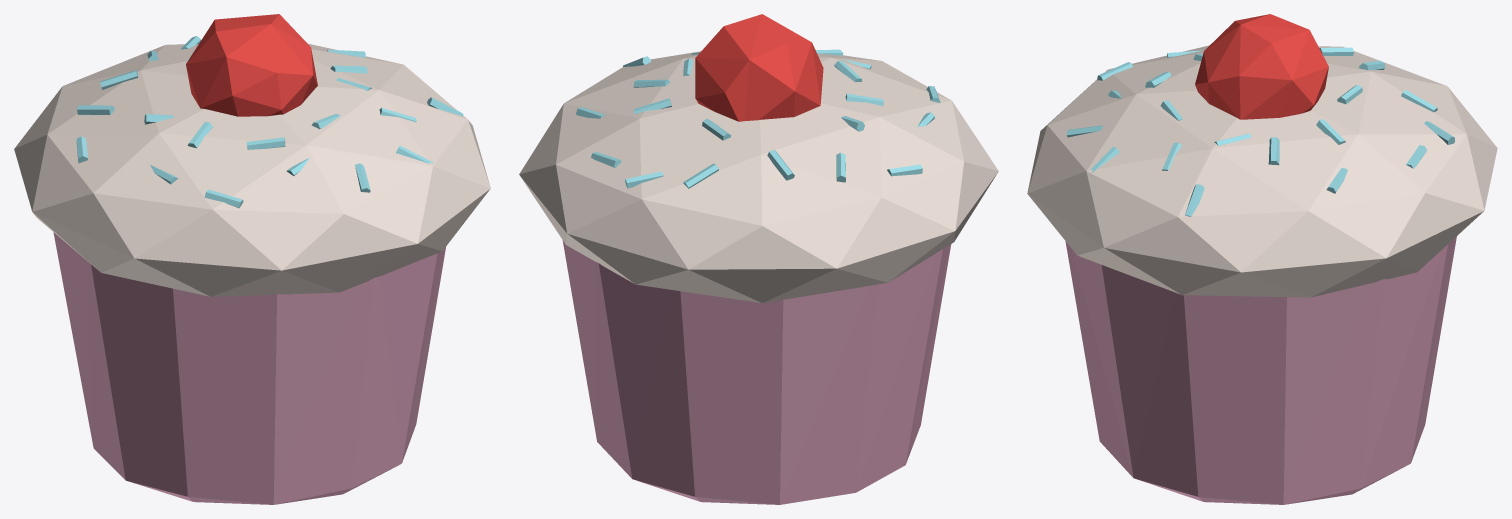
Rendered from cupcake.fbx.
The picture shows the model from 3 angles, left to right: view 1: azimuth 30°, elevation 25°; view 2: azimuth 150°, elevation 25°; view 3: azimuth 270°, elevation 25°; orthographic projection.
Visible parts, largest first — view 1: Cupcake; view 2: Cupcake; view 3: Cupcake.
Part boxes in pixels (left/top/right/bottom): Cupcake: left=14, top=14, right=490, bottom=504; Cupcake: left=519, top=14, right=998, bottom=504; Cupcake: left=1027, top=14, right=1497, bottom=504.
Bounding box in the file's own units: 1.75 × 1.7 × 1.71.
